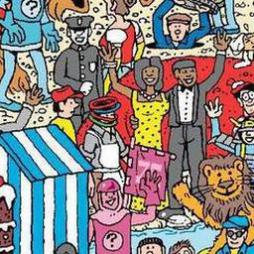wally: (226, 77, 254, 125)
